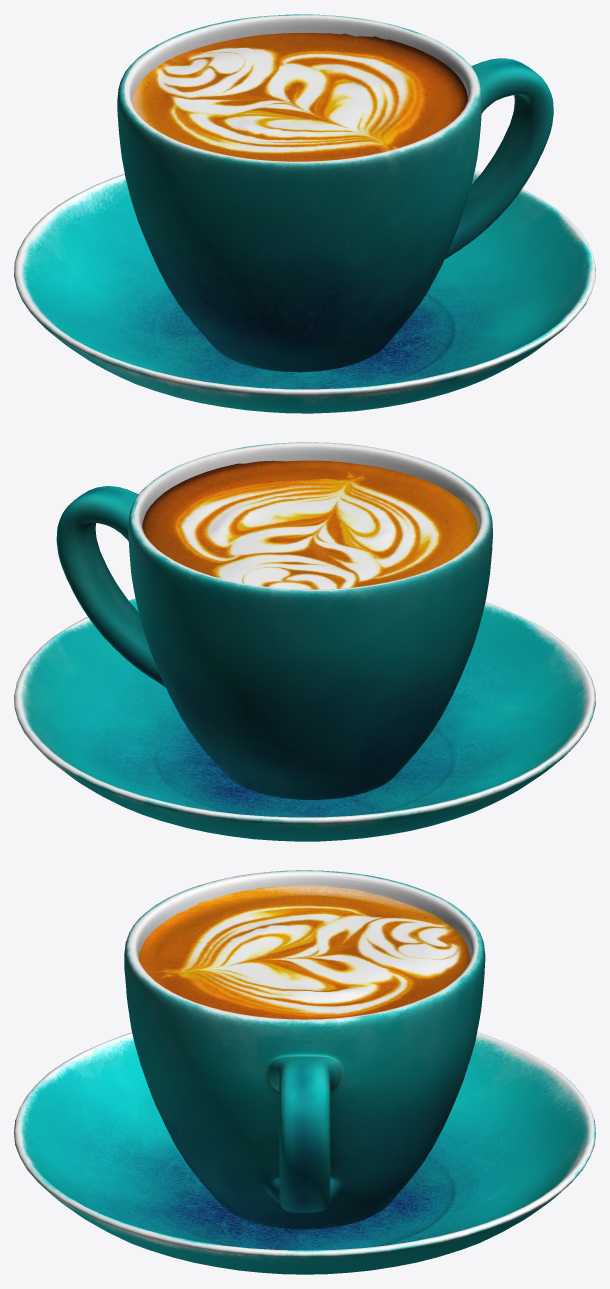
Rendered from coffee_cup_with_plate_Compressed-Ultimate.glb.
The picture shows the model from 3 angles, top to bottom: view 1: azimuth 30°, elevation 25°; view 2: azimuth 150°, elevation 25°; view 3: azimuth 270°, elevation 25°; orthographic projection.
Parts seen in each view (by area): view 1: Object_7, Object_9, Object_5; view 2: Object_7, Object_9, Object_5; view 3: Object_7, Object_9, Object_5.
Boxes of the visible parts, bbox=[...] form: Object_7: bbox=[117, 14, 553, 372]; Object_9: bbox=[14, 170, 595, 413]; Object_5: bbox=[131, 33, 467, 161]; Object_7: bbox=[56, 442, 492, 799]; Object_9: bbox=[14, 598, 595, 841]; Object_5: bbox=[142, 460, 478, 589]; Object_7: bbox=[124, 870, 485, 1229]; Object_9: bbox=[14, 1032, 595, 1274]; Object_5: bbox=[139, 885, 470, 1019].
Size of the model in its own units: 0.1525 by 0.0728 by 0.1525.
Materials: 3 (3 with a texture image).
